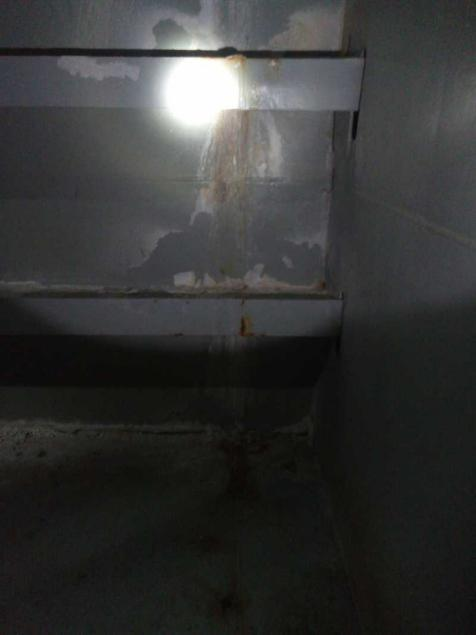corrosion: (214, 112, 256, 207), (225, 52, 290, 79), (229, 296, 256, 339)
